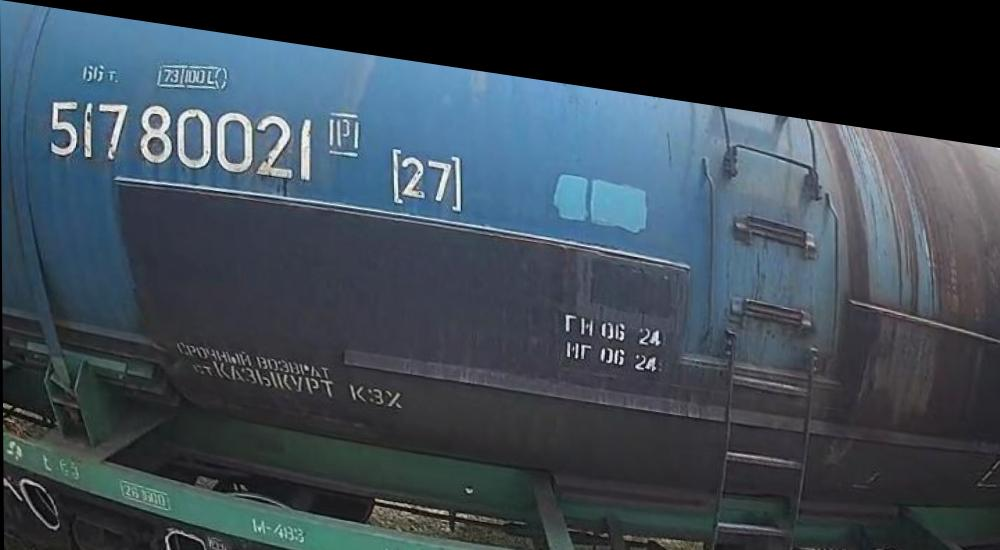Wagon-number: (43, 72, 321, 192)
